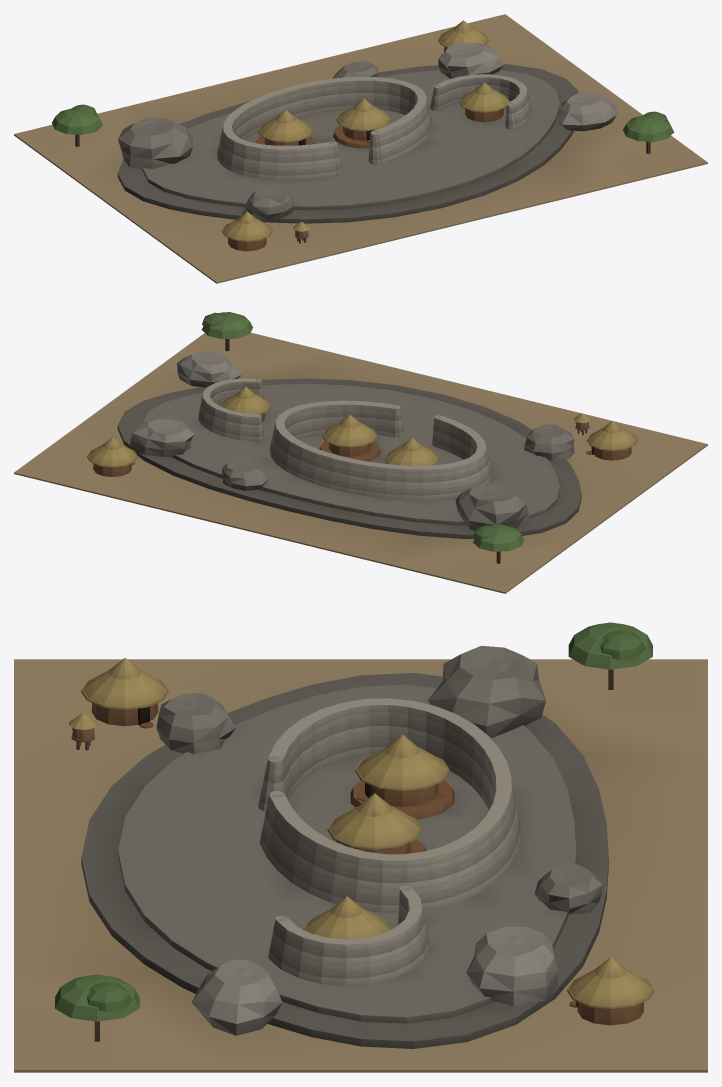
The model's file is ridge-ruins.glb.
The picture shows the model from 3 angles, top to bottom: view 1: azimuth 30°, elevation 25°; view 2: azimuth 150°, elevation 25°; view 3: azimuth 270°, elevation 25°; orthographic projection. The views are drawn at different scales.
Visible parts, largest first — view 1: p0_ridge, p1_walls, p2_houses; view 2: p0_ridge, p1_walls, p2_houses; view 3: p0_ridge, p1_walls, p2_houses.
Boxes of the visible parts, x1,y1,x2,y2 form: p0_ridge: (14,14,707,283); p1_walls: (217,74,531,179); p2_houses: (52,20,674,251); p0_ridge: (14,332,707,593); p1_walls: (198,378,492,499); p2_houses: (87,312,637,563); p0_ridge: (14,646,707,1072); p1_walls: (258,698,521,985); p2_houses: (55,622,654,1041).
Size of the model in its own units: 70 by 6.36 by 50.
